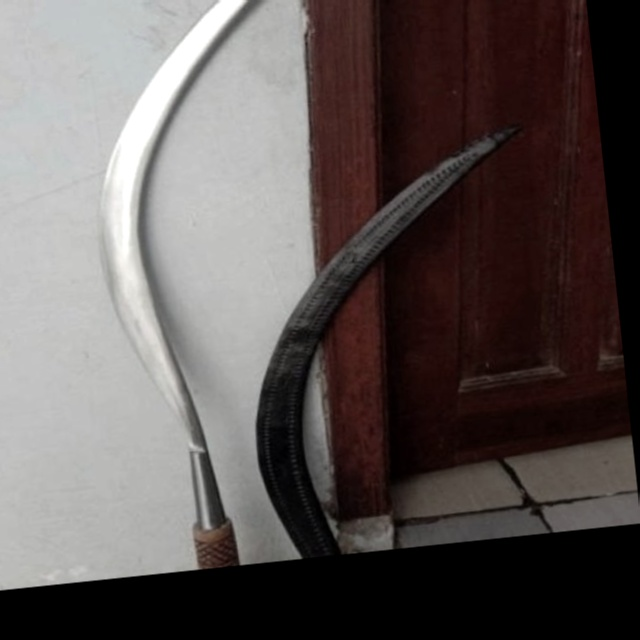Sharp-Object: (88, 0, 345, 568)
